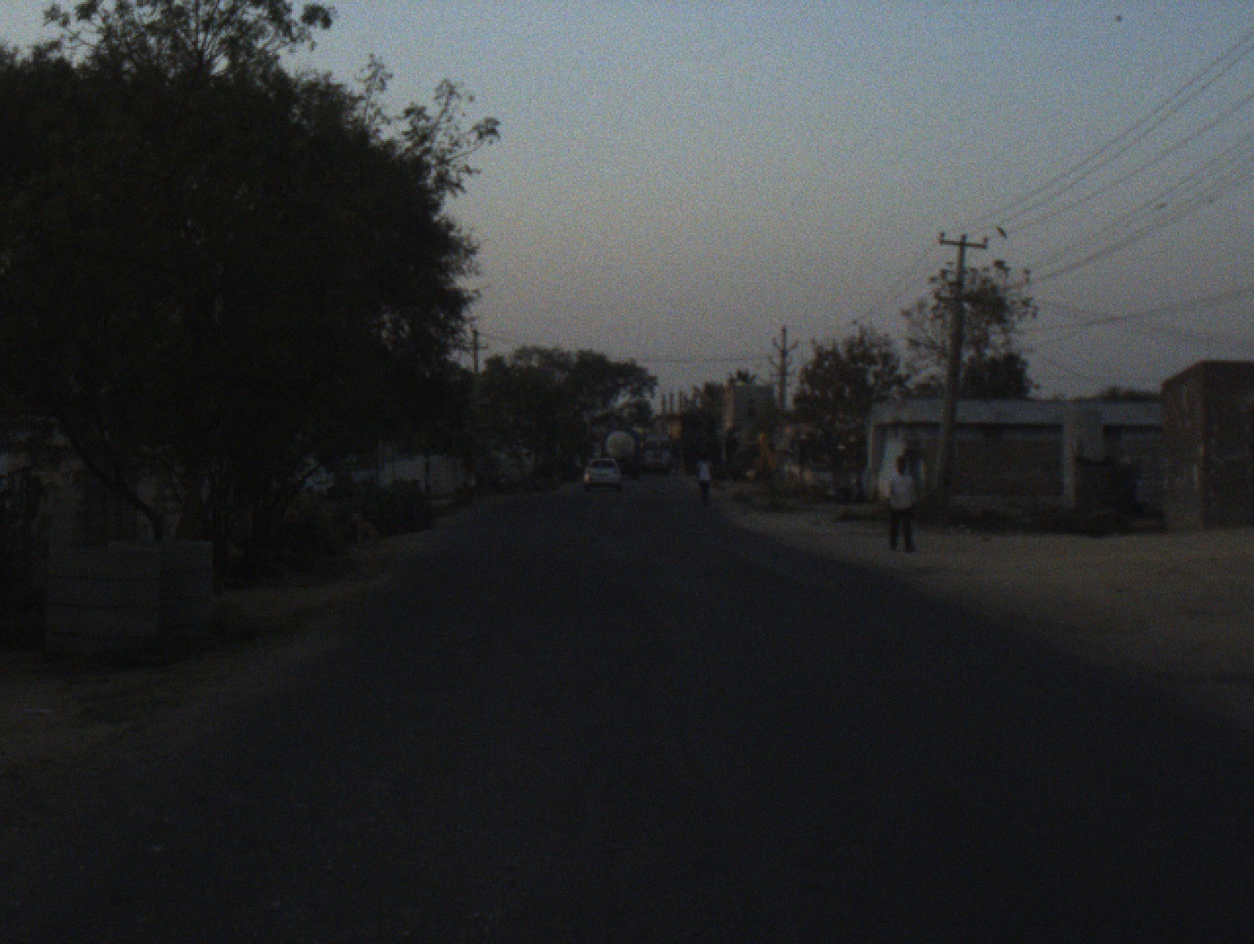animal: (344, 502, 381, 550)
car: (587, 454, 626, 492)
person: (884, 454, 923, 554), (698, 446, 713, 504)
truck: (639, 424, 676, 477), (601, 422, 637, 468)
